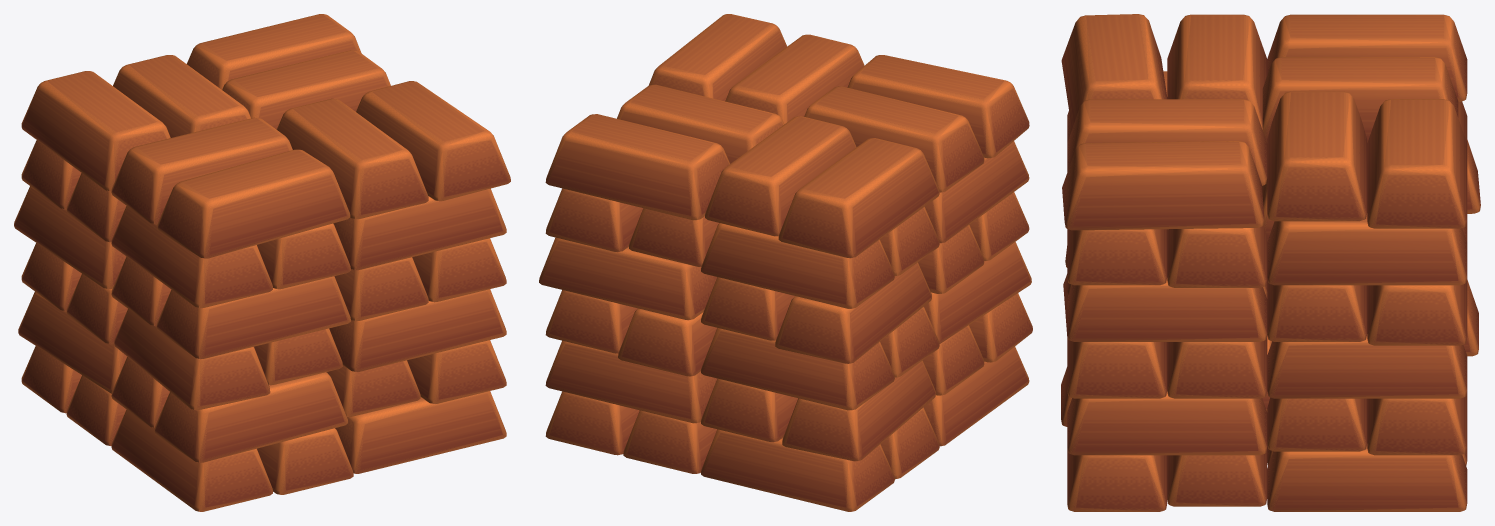
File: Copper_Bars_Stack_Large.gltf
The picture shows the model from 3 angles, left to right: view 1: azimuth 30°, elevation 25°; view 2: azimuth 150°, elevation 25°; view 3: azimuth 270°, elevation 25°; orthographic projection. The views are drawn at different scales.
Parts seen in each view (by area): view 1: Copper_Bars_Stack_Large; view 2: Copper_Bars_Stack_Large; view 3: Copper_Bars_Stack_Large.
Boxes of the visible parts, left/top/right/bottom form: Copper_Bars_Stack_Large: left=14, top=14, right=510, bottom=511; Copper_Bars_Stack_Large: left=539, top=14, right=1032, bottom=511; Copper_Bars_Stack_Large: left=1061, top=14, right=1480, bottom=511.
Size of the model in its own units: 1.66 by 1.5 by 1.68.
Materials: 1 (1 with a texture image).
